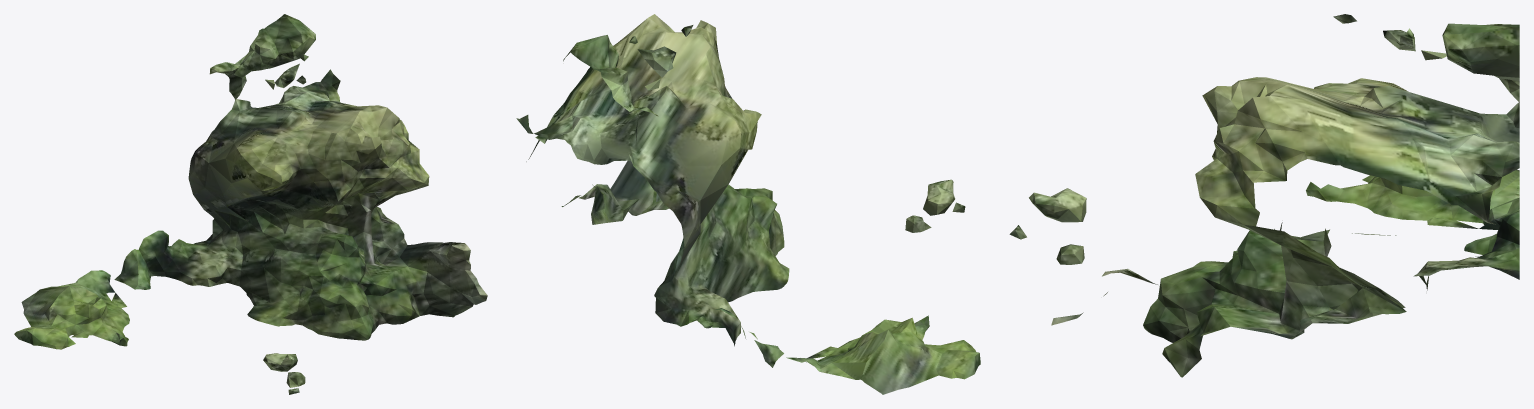
3 views of the same model, side by side, from view 1: azimuth 30°, elevation 25°; view 2: azimuth 150°, elevation 25°; view 3: azimuth 270°, elevation 25° (orthographic). The views are drawn at different scales.
Size of the model in its own units: 24.75 by 15.19 by 21.06.
2 materials, 2 textured.
